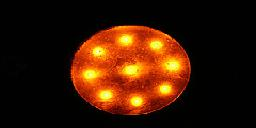LED: (70, 21, 194, 115)
